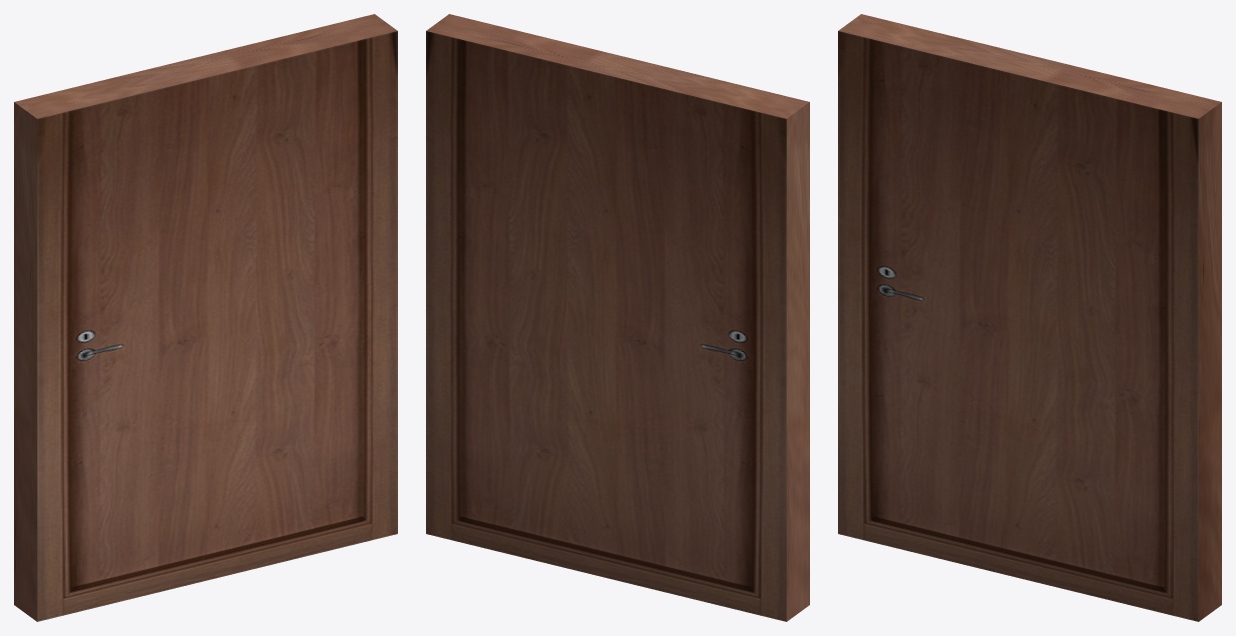
File: puerta.fbx
3 views of the same model, side by side, from view 1: azimuth 30°, elevation 25°; view 2: azimuth 150°, elevation 25°; view 3: azimuth 330°, elevation 25° (orthographic).
Parts seen in each view (by area): view 1: Puerta Principal 2; view 2: Puerta Principal 2; view 3: Puerta Principal 2.
Boxes of the visible parts, x1=… form: Puerta Principal 2: x1=14, y1=14, x2=397, y2=621; Puerta Principal 2: x1=426, y1=14, x2=809, y2=621; Puerta Principal 2: x1=838, y1=14, x2=1221, y2=621.
Size of the model in its own units: 1.8 by 2.4 by 0.2.
1 material, 1 textured.
